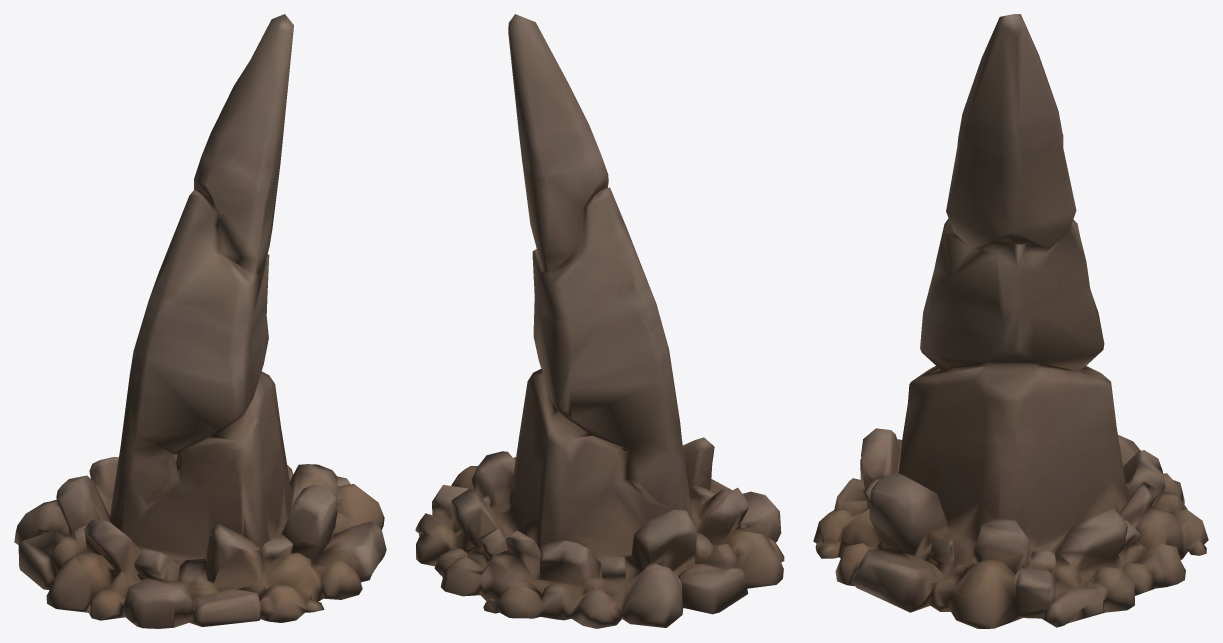
The model's file is skill_stonespike-BWN2pcub.glb.
The picture shows the model from 3 angles, left to right: view 1: azimuth 30°, elevation 25°; view 2: azimuth 150°, elevation 25°; view 3: azimuth 270°, elevation 25°; orthographic projection. The views are drawn at different scales.
Parts seen in each view (by area): view 1: tripo_node_071817d9-87cd-4892-a2e3-0170d13b04bf; view 2: tripo_node_071817d9-87cd-4892-a2e3-0170d13b04bf; view 3: tripo_node_071817d9-87cd-4892-a2e3-0170d13b04bf.
Part boxes in pixels (x1=…): tripo_node_071817d9-87cd-4892-a2e3-0170d13b04bf: x1=14, y1=14, x2=386, y2=628; tripo_node_071817d9-87cd-4892-a2e3-0170d13b04bf: x1=415, y1=14, x2=784, y2=628; tripo_node_071817d9-87cd-4892-a2e3-0170d13b04bf: x1=813, y1=14, x2=1208, y2=628.
Size of the model in its own units: 0.6712 by 1 by 0.6277.
Materials: 1 (1 with a texture image).
